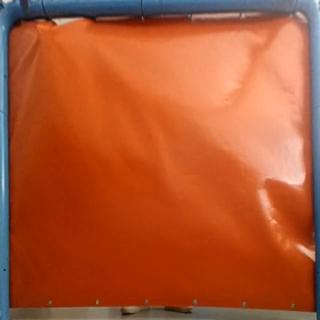Hit-hRxx: (31, 24, 49, 37)
